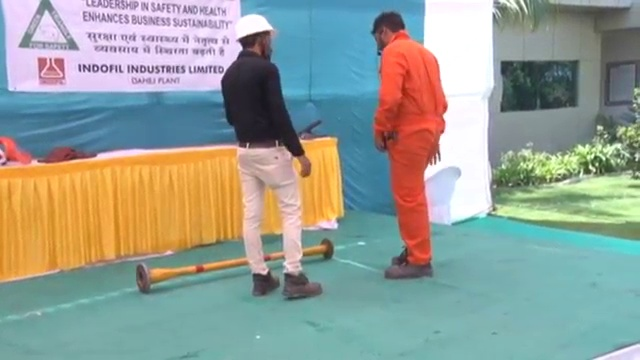helmet: (233, 14, 279, 42)
helmet_off: (371, 9, 406, 57)
helmet_on: (231, 13, 277, 58)
person: (219, 17, 324, 300), (367, 8, 448, 280)
